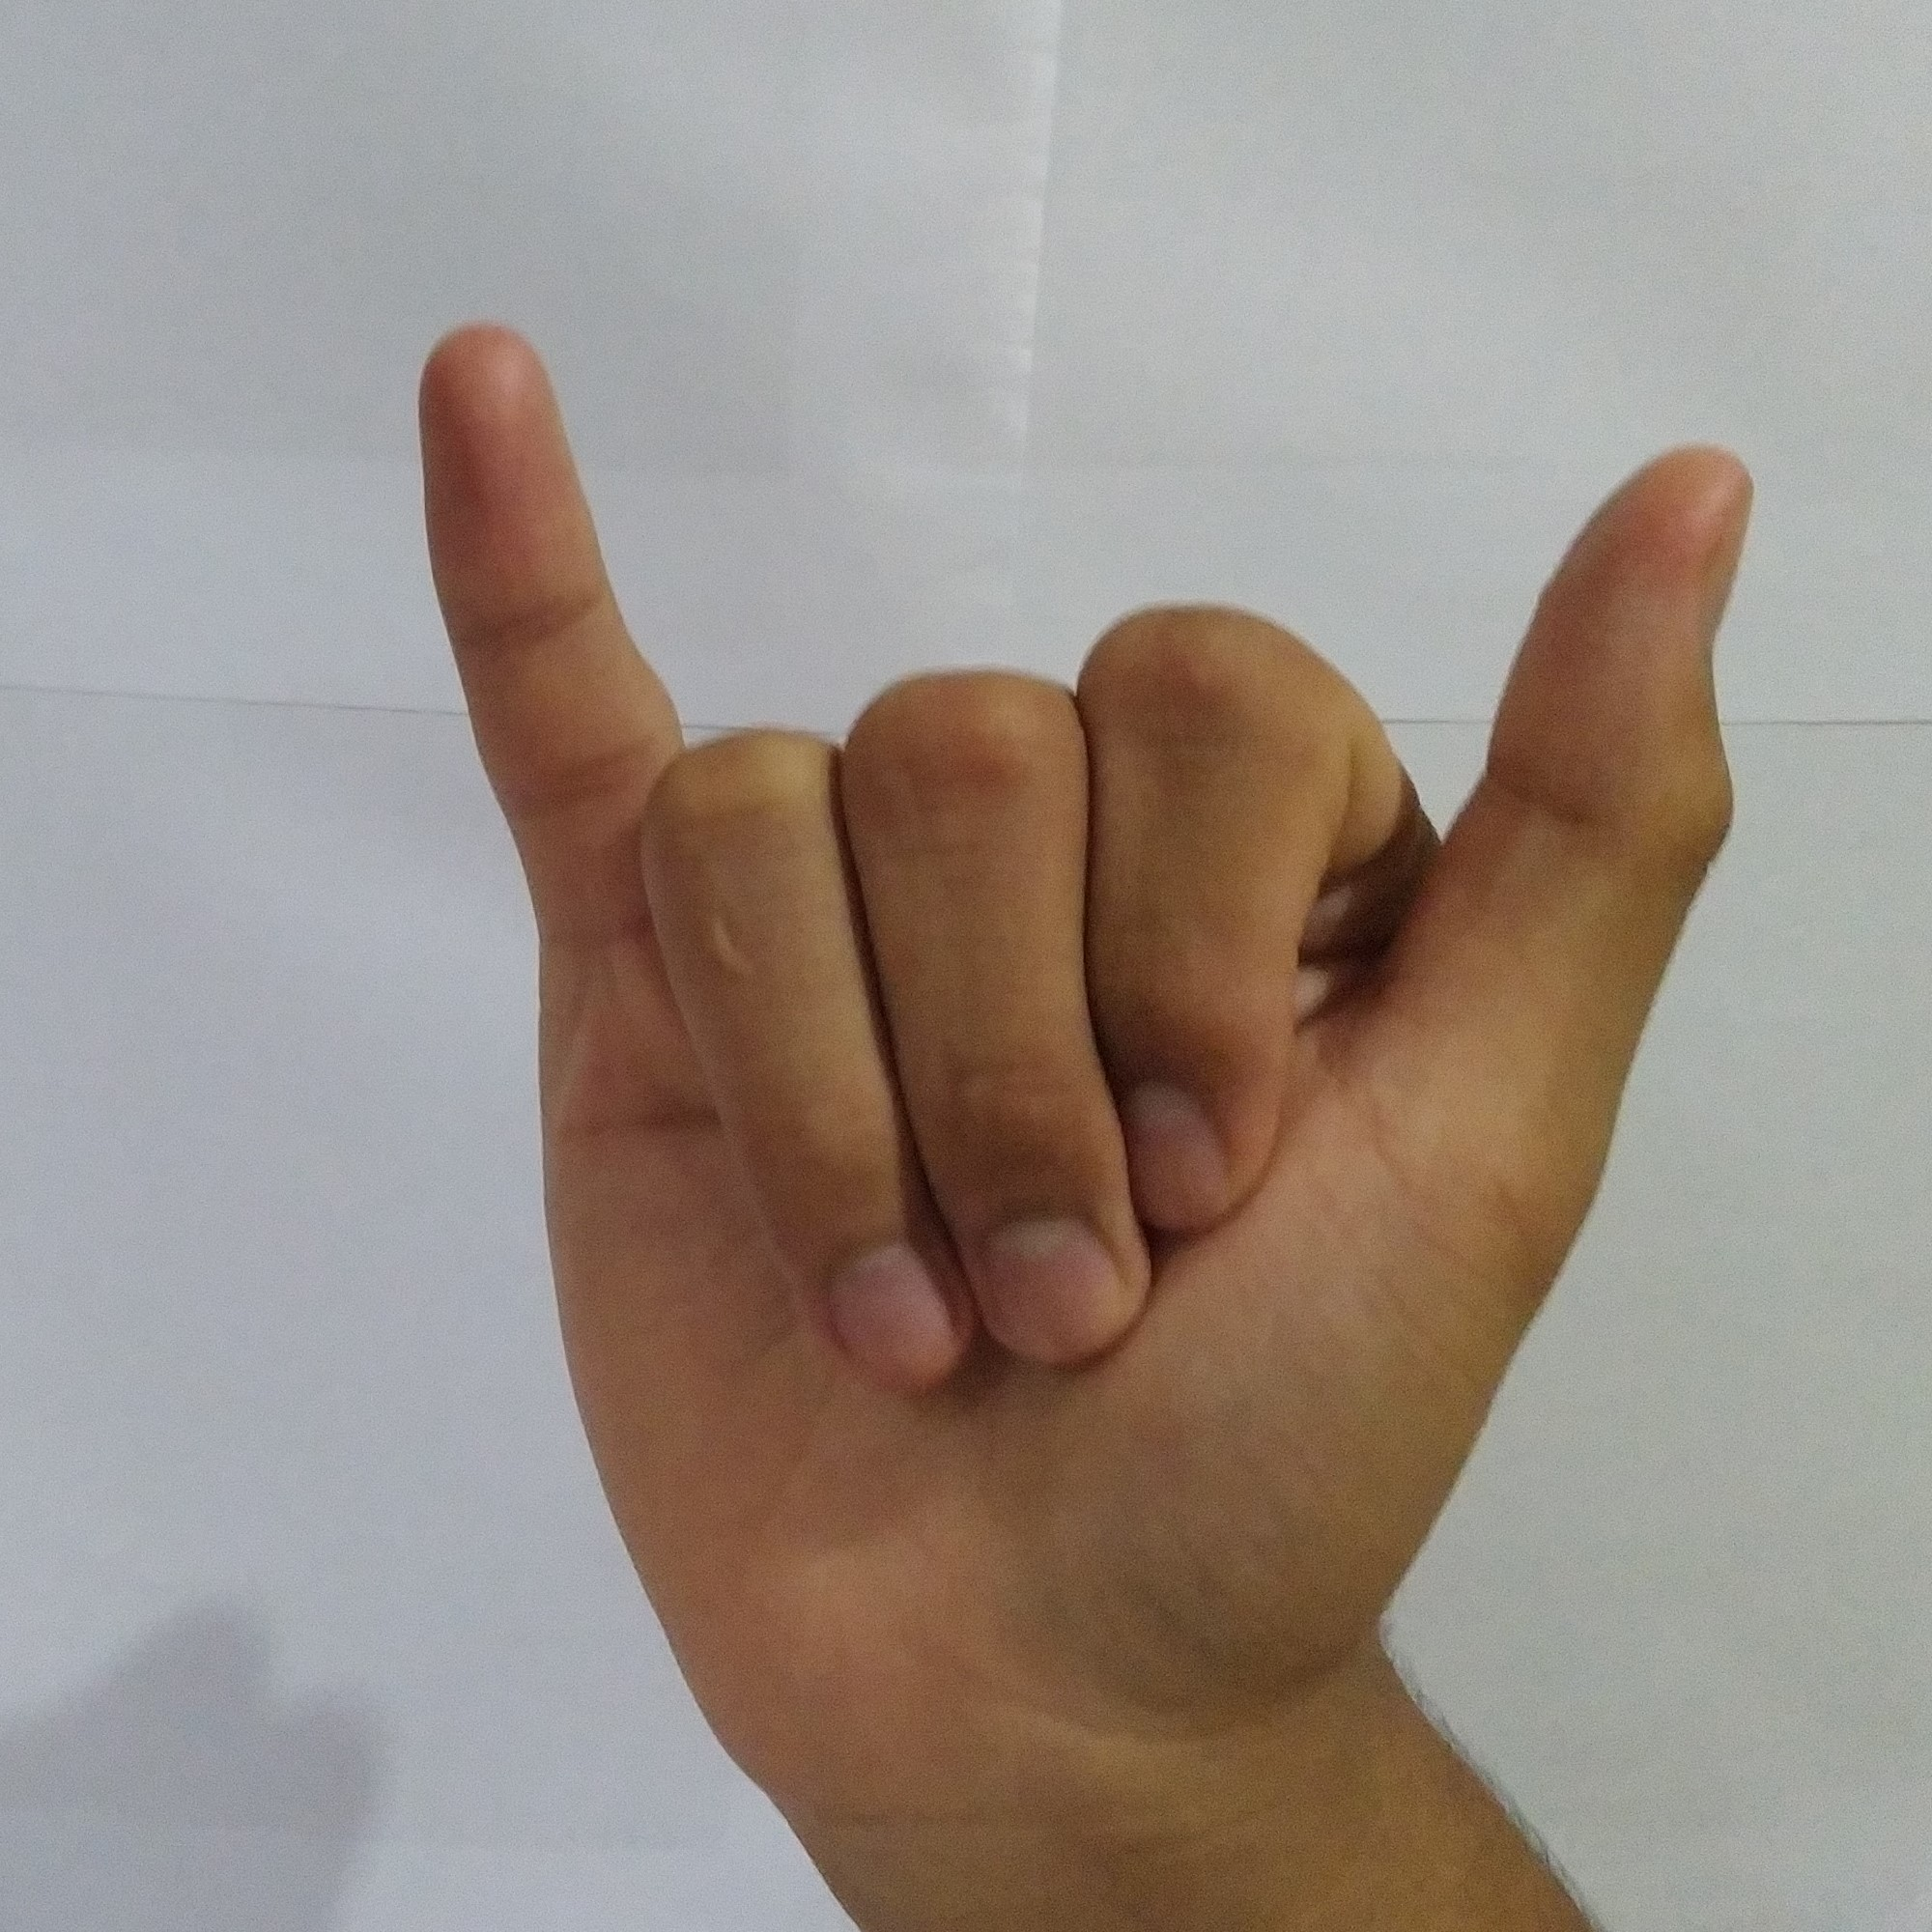Y: (393, 292, 1799, 1799)
